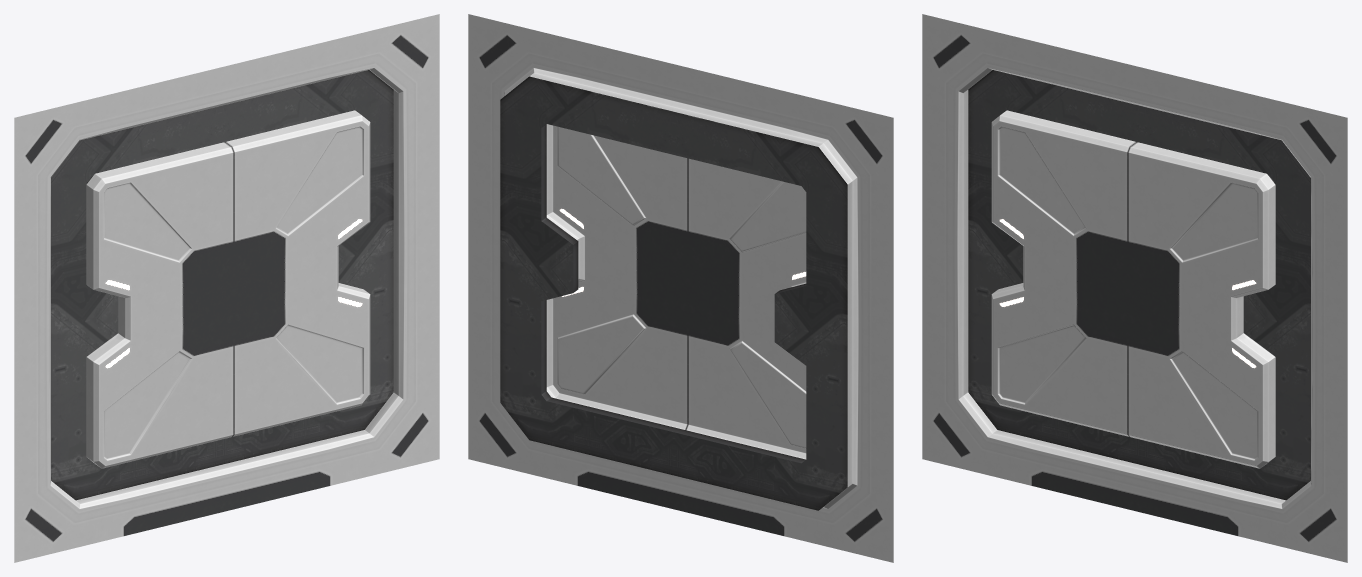
Rendered from MWall09-350x350-1.FBX.
3 views of the same model, side by side, from view 1: azimuth 30°, elevation 25°; view 2: azimuth 150°, elevation 25°; view 3: azimuth 330°, elevation 25° (orthographic).
Parts seen in each view (by area): view 1: MWall09-350x350-1; view 2: MWall09-350x350-1; view 3: MWall09-350x350-1.
Part boxes in pixels (x1=…): MWall09-350x350-1: x1=14, y1=14, x2=439, y2=562; MWall09-350x350-1: x1=468, y1=14, x2=893, y2=562; MWall09-350x350-1: x1=922, y1=14, x2=1347, y2=562.
Size of what is drawn, in the model's own units: 3.5 by 3.5 by 0.2.
